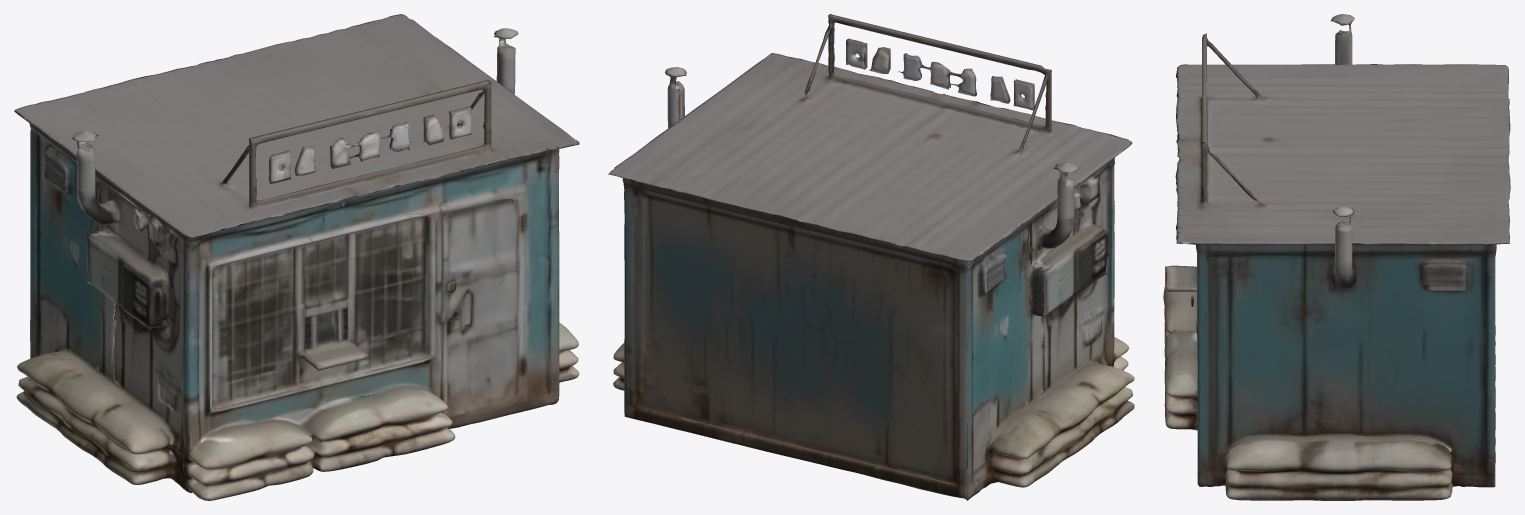
Rendered from mikhalyh_shop.glb.
The picture shows the model from 3 angles, left to right: view 1: azimuth 30°, elevation 25°; view 2: azimuth 150°, elevation 25°; view 3: azimuth 270°, elevation 25°; orthographic projection. The views are drawn at different scales.
Parts seen in each view (by area): view 1: mikhalyh_shop; view 2: mikhalyh_shop; view 3: mikhalyh_shop.
Part boxes in pixels (x1,y1,x2,y2): mikhalyh_shop: [14, 14, 579, 500]; mikhalyh_shop: [608, 14, 1134, 500]; mikhalyh_shop: [1163, 14, 1510, 500].
Bounding box in the file's own units: 4.8 × 3.39 × 3.39.
1 material, 1 textured.
